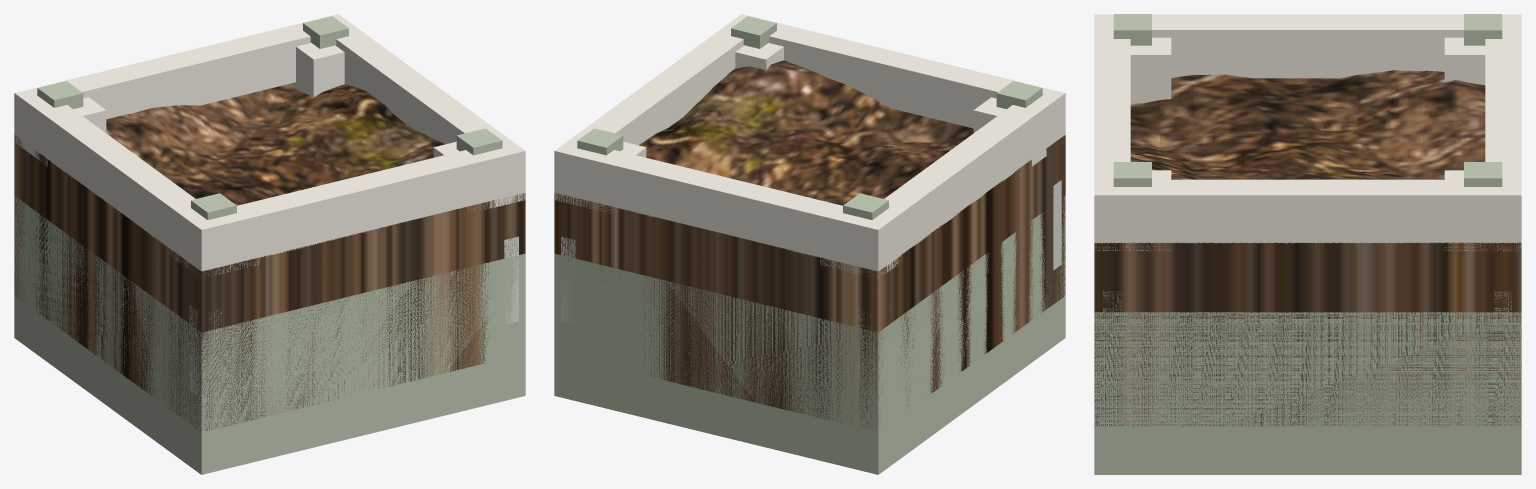
Rendered from s03-untreated-corner-ne.glb.
The picture shows the model from 3 angles, left to right: view 1: azimuth 30°, elevation 25°; view 2: azimuth 150°, elevation 25°; view 3: azimuth 270°, elevation 25°; orthographic projection. The views are drawn at different scales.
Visible parts, largest first — view 1: S03_Physical_Untreated_Soil_Top_RealRelief, S03_Frame_Sage_Solid_Bottom, S03_Cream_Rim_N, S03_Cream_Rim_S, S03_Cream_Rim_W, S03_Cream_Rim_E, S03_Cream_Protective_Corner_1_0, S03_Cream_Protective_Corner_1_1, S03_Cream_Protective_Corner_0_0, S03_Cream_Protective_Corner_0_1, S03_Sage_Corner_Inset_1_0, S03_Sage_Corner_Inset_0_0 (+4 smaller); view 2: S03_Physical_Untreated_Soil_Top_RealRelief, S03_Frame_Sage_Solid_Bottom, S03_Cream_Rim_S, S03_Cream_Rim_N, S03_Cream_Rim_W, S03_Cream_Rim_E, S03_Cream_Protective_Corner_1_0, S03_Cream_Protective_Corner_0_1, S03_Cream_Protective_Corner_0_0, S03_Sage_Corner_Inset_1_1, S03_Cream_Protective_Corner_1_1, S03_Sage_Corner_Inset_0_1 (+4 smaller); view 3: S03_Physical_Untreated_Soil_Top_RealRelief, S03_Frame_Sage_Solid_Bottom, S03_Cream_Rim_E, S03_Cream_Rim_W, S03_Cream_Rim_N, S03_Cream_Rim_S, S03_Cream_Protective_Corner_0_1, S03_Cream_Protective_Corner_0_0, S03_Sage_Corner_Inset_0_0, S03_Sage_Corner_Inset_0_1, S03_Sage_Corner_Inset_1_0, S03_Sage_Corner_Inset_1_1 (+2 smaller).
Boxes of the visible parts, <box> form: S03_Physical_Untreated_Soil_Top_RealRelief: <box>14,83,525,430</box>; S03_Frame_Sage_Solid_Bottom: <box>14,196,525,474</box>; S03_Cream_Rim_N: <box>185,139,525,271</box>; S03_Cream_Rim_S: <box>14,14,353,139</box>; S03_Cream_Rim_W: <box>14,86,228,271</box>; S03_Cream_Rim_E: <box>334,14,525,199</box>; S03_Cream_Protective_Corner_1_0: <box>291,43,344,97</box>; S03_Cream_Protective_Corner_1_1: <box>433,141,525,213</box>; S03_Cream_Protective_Corner_0_0: <box>14,97,106,166</box>; S03_Cream_Protective_Corner_0_1: <box>168,213,259,275</box>; S03_Sage_Corner_Inset_1_0: <box>303,16,348,48</box>; S03_Sage_Corner_Inset_0_0: <box>37,81,83,108</box>; S03_Physical_Untreated_Soil_Top_RealRelief: <box>554,60,1065,431</box>; S03_Frame_Sage_Solid_Bottom: <box>554,196,1065,474</box>; S03_Cream_Rim_S: <box>554,139,894,271</box>; S03_Cream_Rim_N: <box>727,14,1065,145</box>; S03_Cream_Rim_W: <box>851,86,1065,270</box>; S03_Cream_Rim_E: <box>554,14,755,198</box>; S03_Cream_Protective_Corner_1_0: <box>554,141,646,213</box>; S03_Cream_Protective_Corner_0_1: <box>973,97,1065,166</box>; S03_Cream_Protective_Corner_0_0: <box>820,222,901,277</box>; S03_Sage_Corner_Inset_1_1: <box>731,16,776,48</box>; S03_Cream_Protective_Corner_1_1: <box>735,43,783,70</box>; S03_Sage_Corner_Inset_0_1: <box>996,81,1042,108</box>; S03_Physical_Untreated_Soil_Top_RealRelief: <box>1094,70,1521,426</box>; S03_Frame_Sage_Solid_Bottom: <box>1094,312,1521,474</box>; S03_Cream_Rim_E: <box>1094,179,1521,243</box>; S03_Cream_Rim_W: <box>1094,14,1521,78</box>; S03_Cream_Rim_N: <box>1094,14,1130,243</box>; S03_Cream_Rim_S: <box>1485,14,1521,243</box>; S03_Cream_Protective_Corner_0_1: <box>1130,37,1171,103</box>; S03_Cream_Protective_Corner_0_0: <box>1444,37,1485,85</box>; S03_Sage_Corner_Inset_0_0: <box>1464,14,1502,45</box>; S03_Sage_Corner_Inset_0_1: <box>1113,14,1151,45</box>; S03_Sage_Corner_Inset_1_0: <box>1464,162,1502,186</box>; S03_Sage_Corner_Inset_1_1: <box>1113,162,1151,186</box>.
Bounding box in the file's own units: 0.2 × 0.149 × 0.2.
5 materials, 1 textured.
